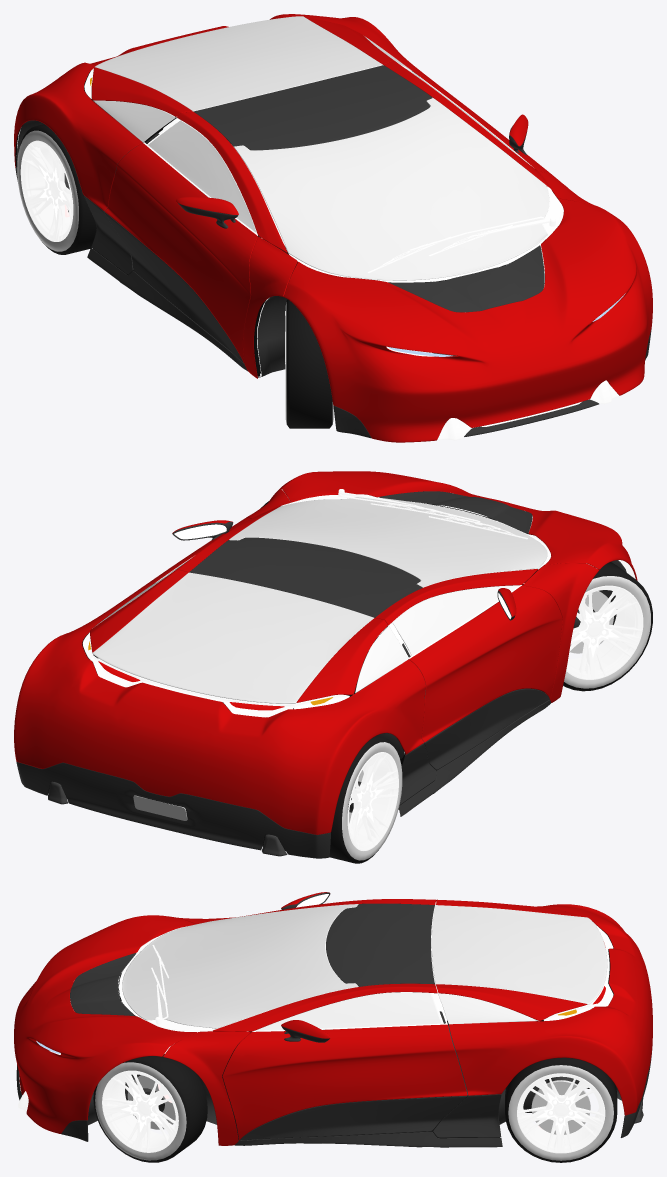
Rendered from concept.glb.
3 views of the same model, one above another, from view 1: azimuth 30°, elevation 25°; view 2: azimuth 150°, elevation 25°; view 3: azimuth 270°, elevation 25° (orthographic). The views are drawn at different scales.
Parts seen in each view (by area): view 1: BodyHood, BodyWindshield, BodyRearwindow, BodyDoorRColor1, BodyRearPanelsColor1, BodyRoofPanel, BodyPillars, BodyPanelsColor2, BodyHoodTopgrill, WheelFrontR, BodyDoorRWindow, WheelRearRRim (+9 smaller); view 2: BodyRearPanelsColor1, BodyRearwindow, BodyWindshield, BodyDoorRColor1, BodyPanelsColor2, BodyRoofPanel, BodyHood, BodyPillars, WheelFrontRRim, BodyDoorRColor2, WheelRearRRim, BodyDoorRWindow (+8 smaller); view 3: BodyWindshield, BodyRearPanelsColor1, BodyDoorLColor1, BodyHood, BodyRearwindow, BodyRoofPanel, BodyPillars, BodyDoorLColor2, BodyPanelsColor2, WheelFrontL, WheelRearLRim, WheelFrontLRim (+12 smaller).
Boxes of the visible parts, left/top/right/bottom form: BodyHood: left=283, top=198, right=652, bottom=442; BodyWindshield: left=234, top=98, right=549, bottom=280; BodyRearwindow: left=94, top=16, right=382, bottom=111; BodyDoorRColor1: left=104, top=143, right=257, bottom=362; BodyRearPanelsColor1: left=14, top=14, right=428, bottom=210; BodyRoofPanel: left=193, top=65, right=432, bottom=150; BodyPillars: left=176, top=61, right=598, bottom=378; BodyPanelsColor2: left=15, top=167, right=651, bottom=438; BodyHoodTopgrill: left=388, top=245, right=544, bottom=312; WheelFrontR: left=285, top=299, right=333, bottom=428; BodyDoorRWindow: left=148, top=120, right=257, bottom=234; WheelRearRRim: left=20, top=140, right=73, bottom=241; BodyRearPanelsColor1: left=14, top=569, right=425, bottom=834; BodyRearwindow: left=92, top=572, right=373, bottom=703; BodyWindshield: left=229, top=497, right=547, bottom=587; BodyDoorRColor1: left=409, top=585, right=562, bottom=742; BodyPanelsColor2: left=16, top=700, right=550, bottom=858; BodyRoofPanel: left=189, top=537, right=422, bottom=617; BodyHood: left=279, top=471, right=637, bottom=580; BodyPillars: left=175, top=489, right=599, bottom=702; WheelFrontRRim: left=566, top=585, right=643, bottom=679; BodyDoorRColor2: left=424, top=688, right=549, bottom=769; WheelRearRRim: left=347, top=752, right=398, bottom=850; BodyDoorRWindow: left=392, top=585, right=519, bottom=655; BodyWindshield: left=122, top=904, right=358, bottom=1028; BodyRearPanelsColor1: left=436, top=899, right=652, bottom=1115; BodyDoorLColor1: left=222, top=1024, right=467, bottom=1139; BodyHood: left=14, top=915, right=196, bottom=1133; BodyRearwindow: left=431, top=905, right=607, bottom=1004; BodyRoofPanel: left=326, top=903, right=434, bottom=986; BodyPillars: left=163, top=899, right=437, bottom=1145; BodyDoorLColor2: left=240, top=1096, right=467, bottom=1140; BodyPanelsColor2: left=16, top=1050, right=652, bottom=1147; WheelFrontL: left=93, top=1054, right=207, bottom=1162; WheelRearLRim: left=517, top=1073, right=605, bottom=1153; WheelFrontLRim: left=102, top=1070, right=178, bottom=1152.
Bounding box in the file's own units: 2.54 × 1.15 × 4.36.
